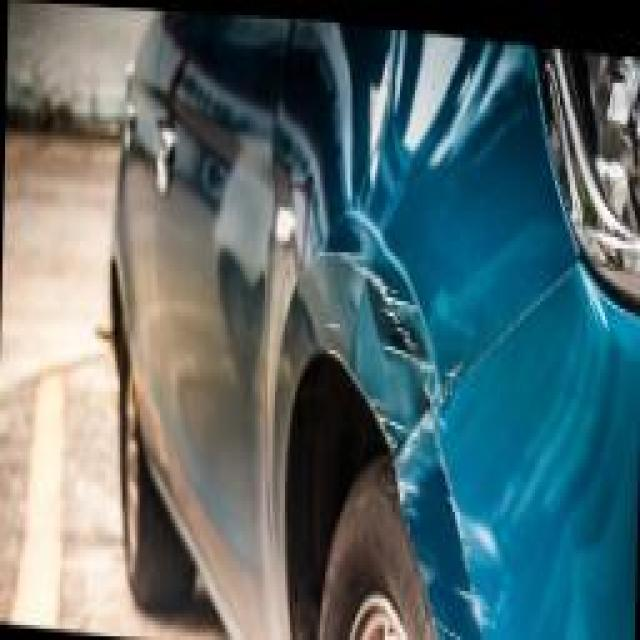Fender: (292, 181, 502, 640)
